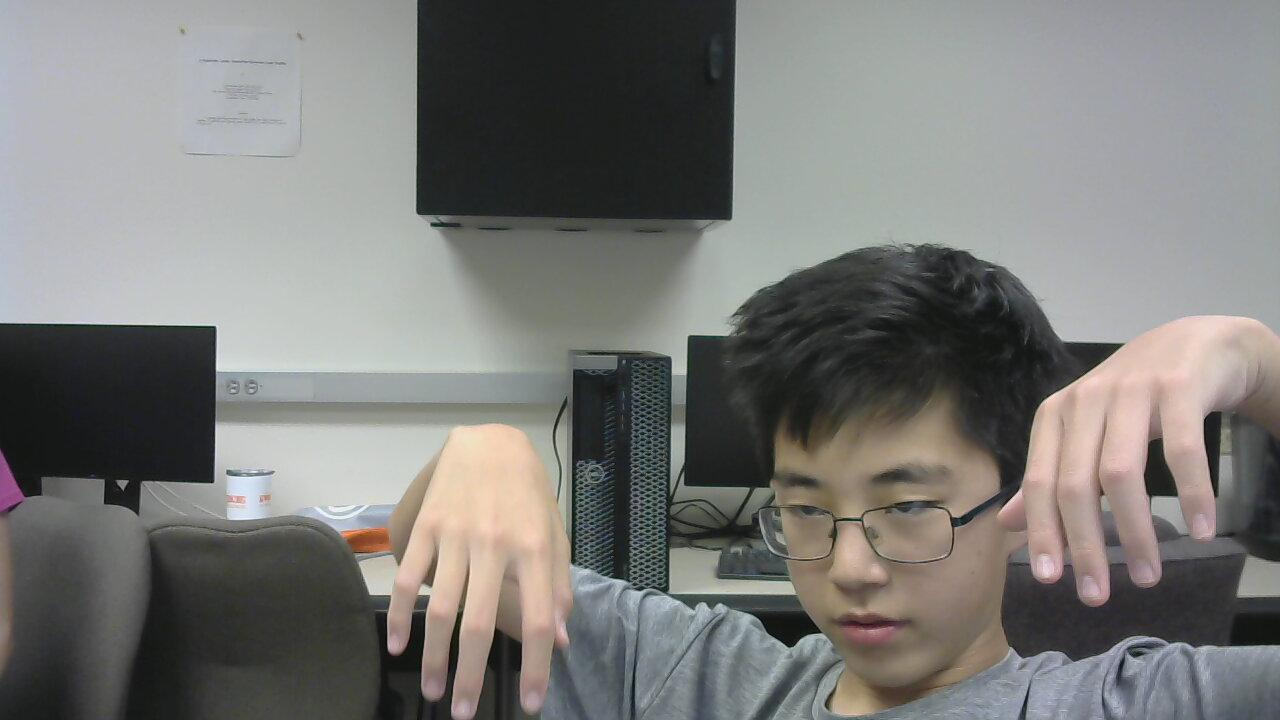hands: (998, 299, 1260, 603), (378, 416, 576, 720)
